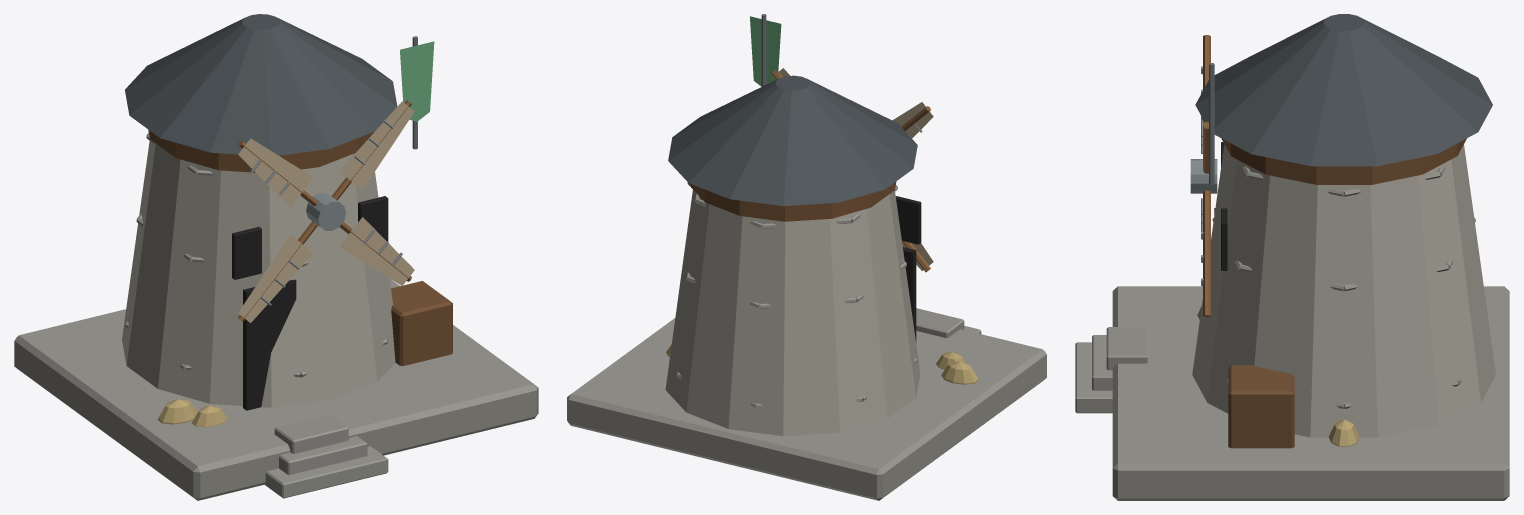
The model's file is edificio-farm-e3-DbgSJth0.glb.
The picture shows the model from 3 angles, left to right: view 1: azimuth 30°, elevation 25°; view 2: azimuth 150°, elevation 25°; view 3: azimuth 270°, elevation 25°; orthographic projection. The views are drawn at different scales.
Visible parts, largest first — view 1: molino_e3_envolvente, rotor_molino, molino_e3_team_color; view 2: molino_e3_envolvente, molino_e3_team_color, rotor_molino; view 3: molino_e3_envolvente, rotor_molino.
Boxes of the visible parts, bbox=[...] form: molino_e3_envolvente: bbox=[14, 14, 538, 500]; rotor_molino: bbox=[237, 100, 414, 323]; molino_e3_team_color: bbox=[400, 41, 434, 121]; molino_e3_envolvente: bbox=[567, 14, 1046, 500]; molino_e3_team_color: bbox=[750, 16, 781, 86]; rotor_molino: bbox=[771, 68, 933, 272]; molino_e3_envolvente: bbox=[1075, 14, 1509, 500]; rotor_molino: bbox=[1190, 35, 1217, 317].
Bounding box in the file's own units: 52 × 53 × 52.5.
